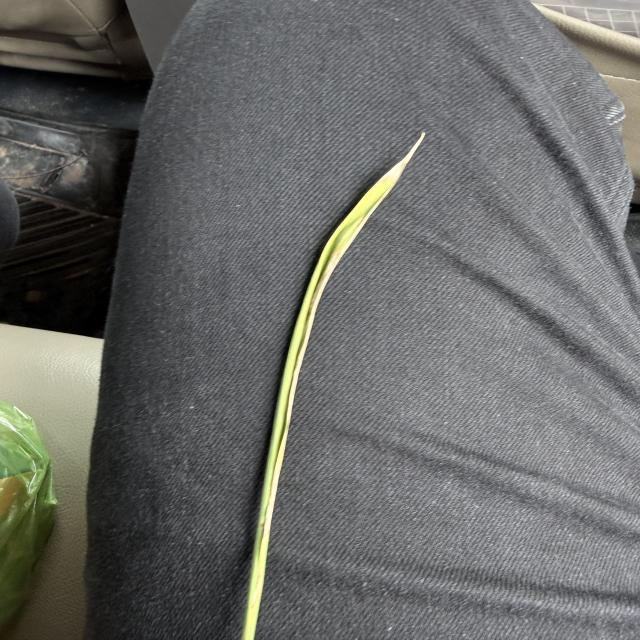Chay bia la: (263, 187, 392, 539), (381, 133, 423, 183)
